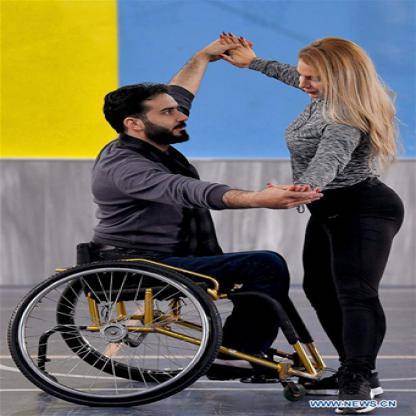wheelchair: (7, 29, 330, 410)
